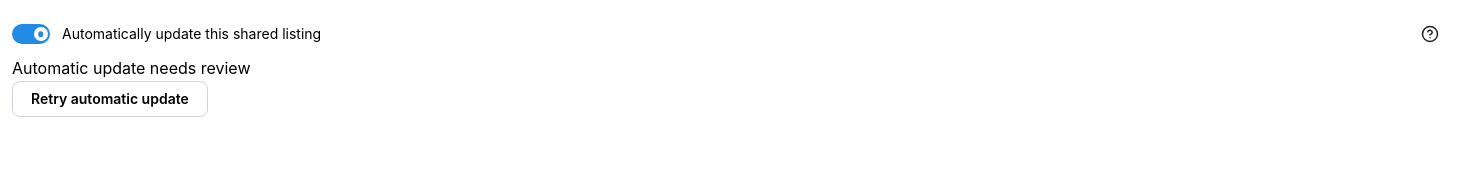
Test: automatic registry update setting › shows a publication problem and retries without changing the enabled setting
expect the message shows "needs review": met, box x1=12 y1=58 x2=250 y2=78
Step 1. Click the button "Retry automatic update" → click(110, 99), box x1=12 y1=81 x2=208 y2=117
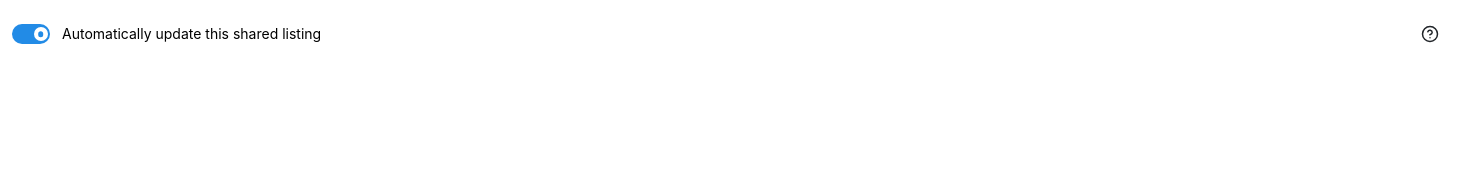
expect the switch is checked: met, box x1=12 y1=24 x2=321 y2=44
expect the text "Automatic update needs review" is gone: met
